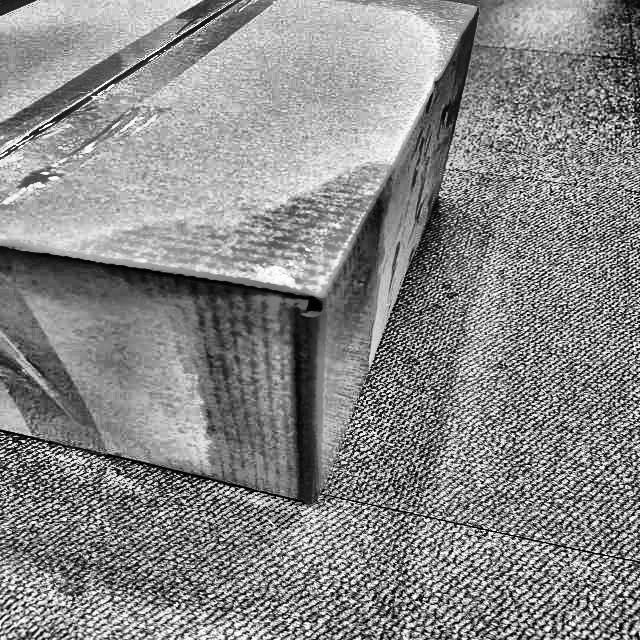box: (0, 1, 489, 519)
wet: (158, 197, 380, 497)
